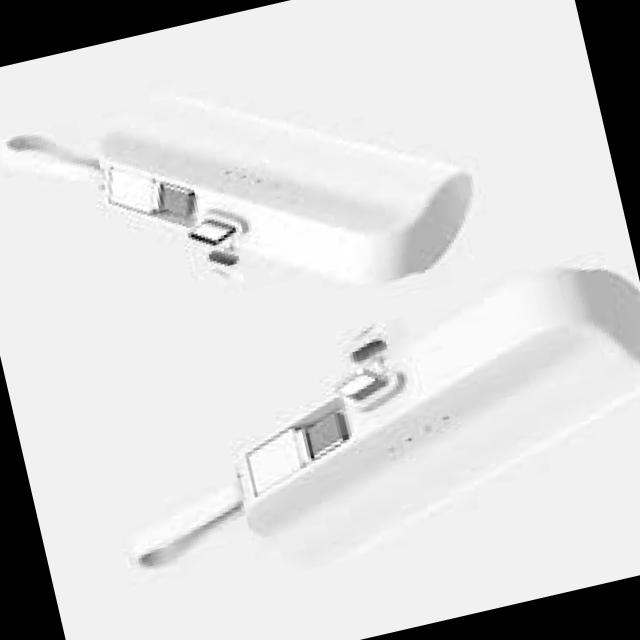portable-charger: (198, 242, 640, 591), (80, 21, 494, 340)
